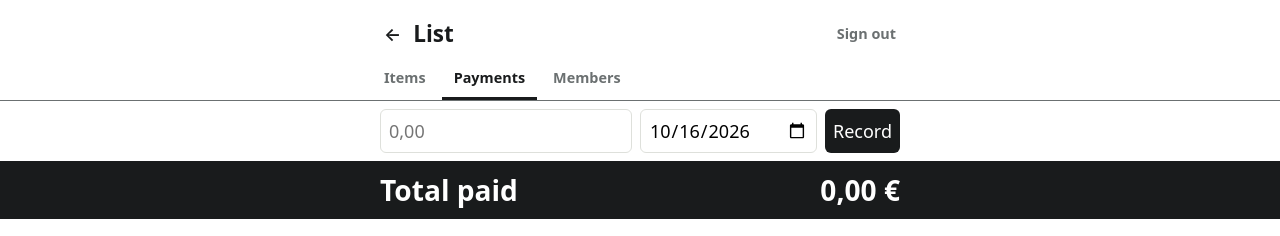
Test: PaymentsView › rejects recording a Payment with no date
Type "12.50" into the field named "payment-amount".
click(506, 131); type("12.50")  # box [380,109,632,153]
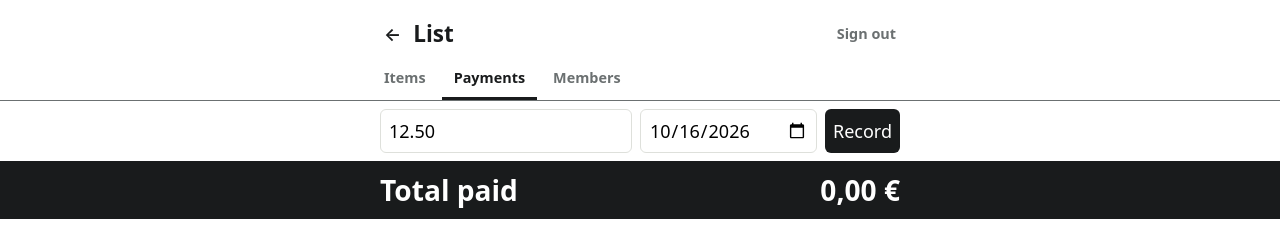
Clear the date field named "payment-date" at (728, 131), box [640,109,817,153]
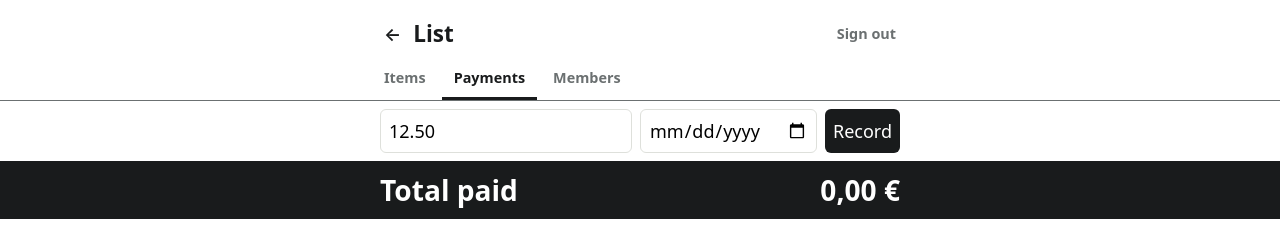
Submit the form, box [380,109,900,153]
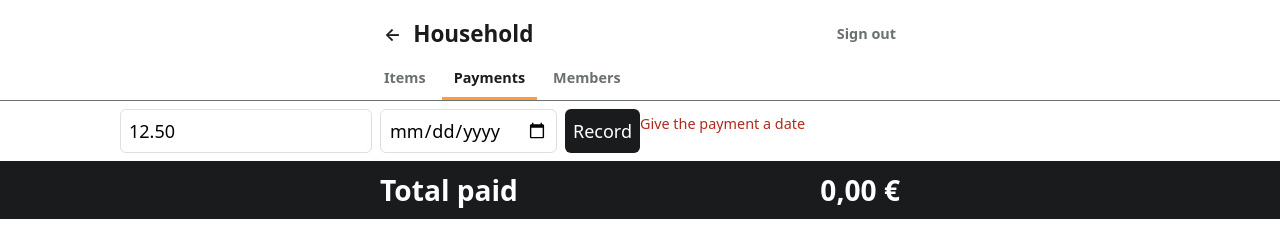
Expected: the text "Give the payment a date" is shown, [640,114,805,133]
